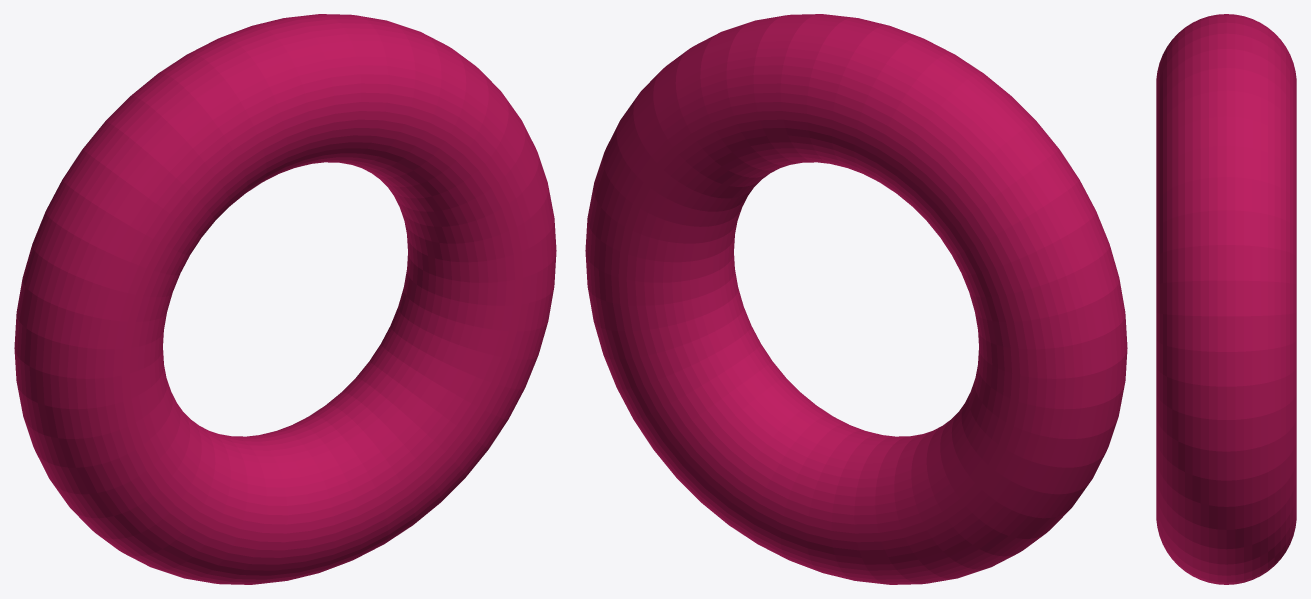
3 views of the same model, side by side, from view 1: azimuth 30°, elevation 25°; view 2: azimuth 150°, elevation 25°; view 3: azimuth 270°, elevation 25° (orthographic). The views are drawn at different scales.
Parts seen in each view (by area): view 1: world; view 2: world; view 3: world.
Part boxes in pixels (x1,y1,x2,y2): world: (14,14,556,584); world: (585,14,1127,584); world: (1156,14,1296,584).
Size of the model in its own units: 36.27 by 36.2 by 8.92.
